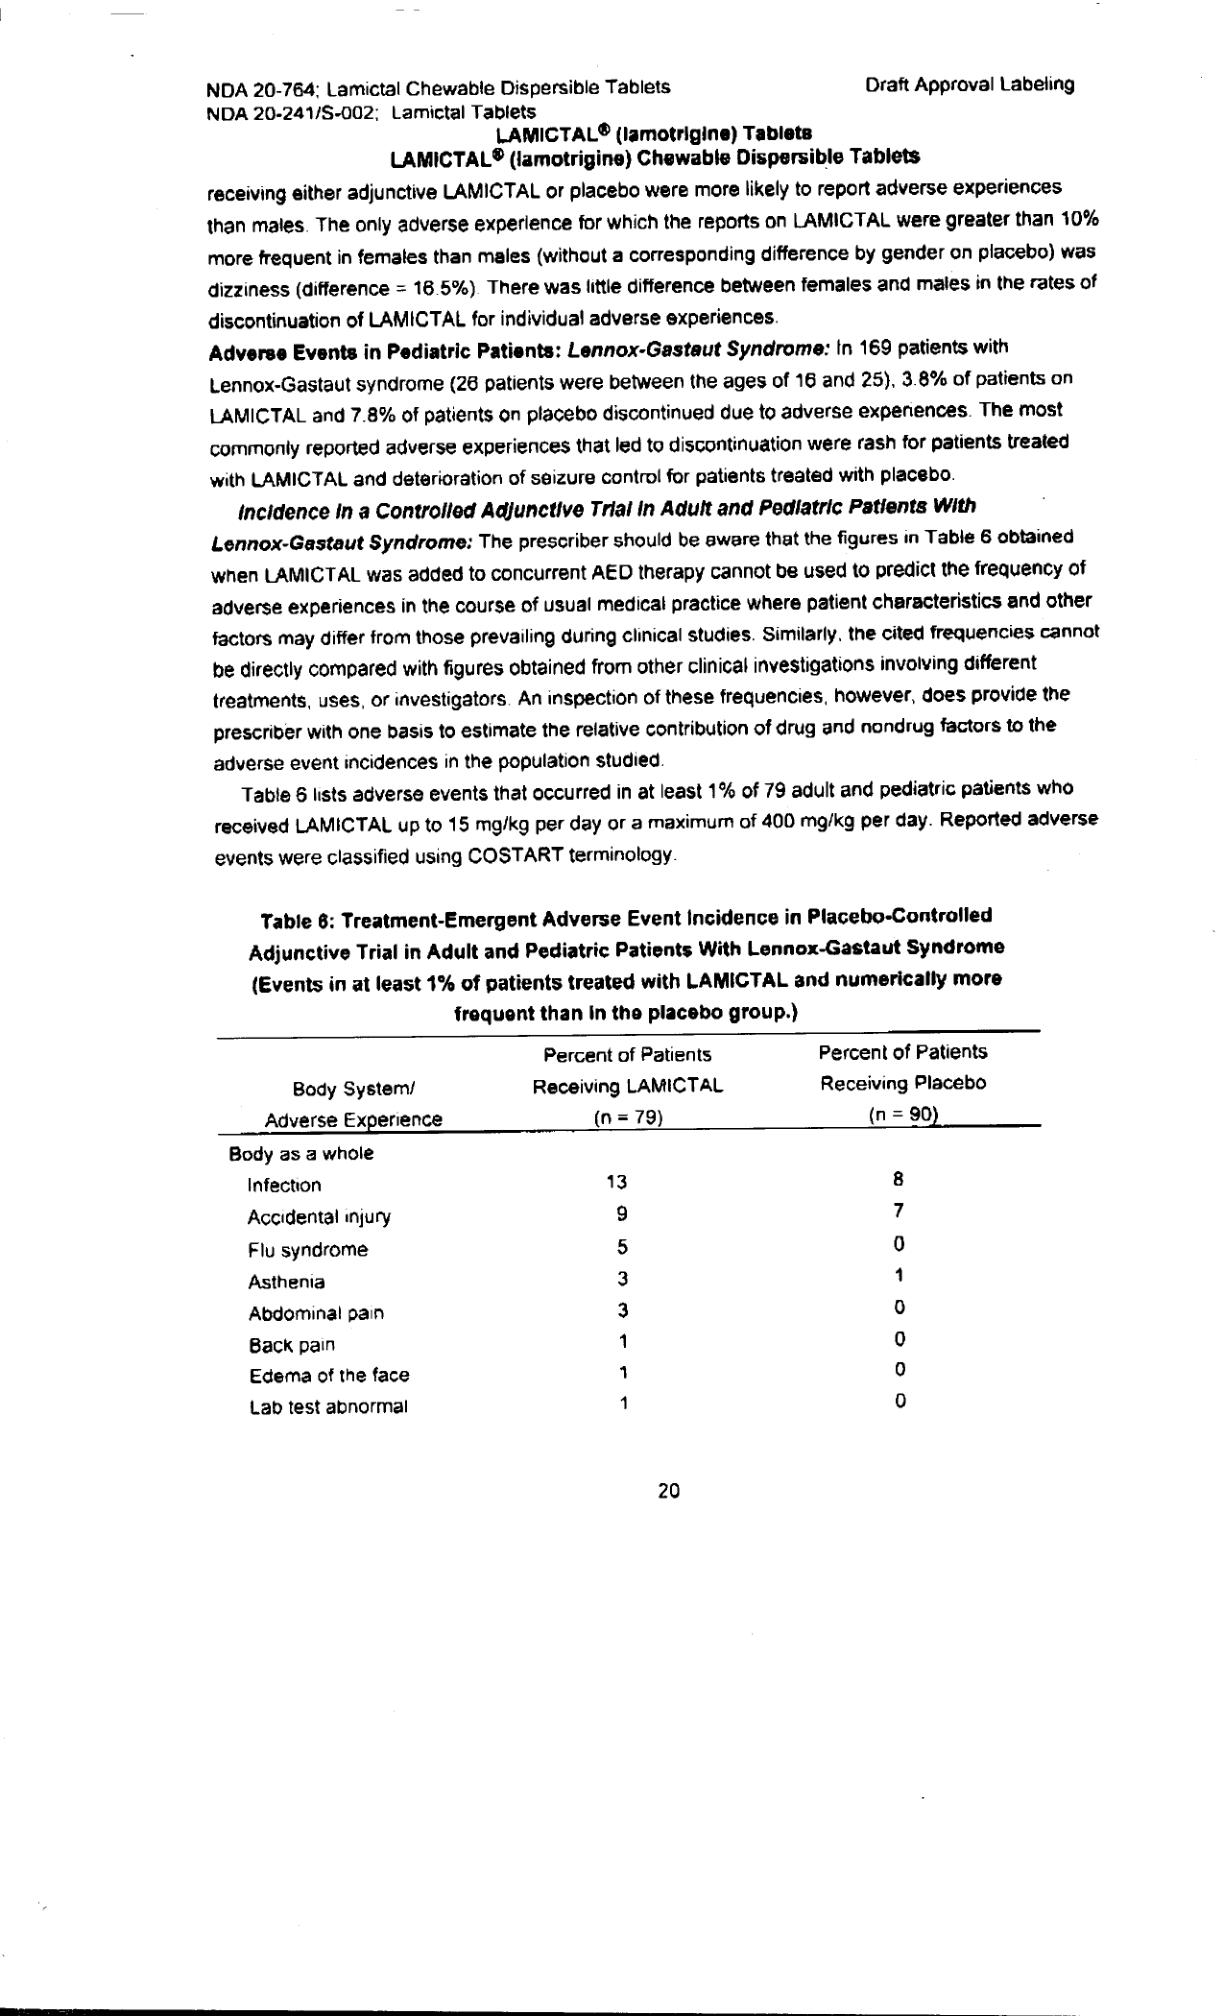partial_lined: (210, 1028, 1043, 1426)
